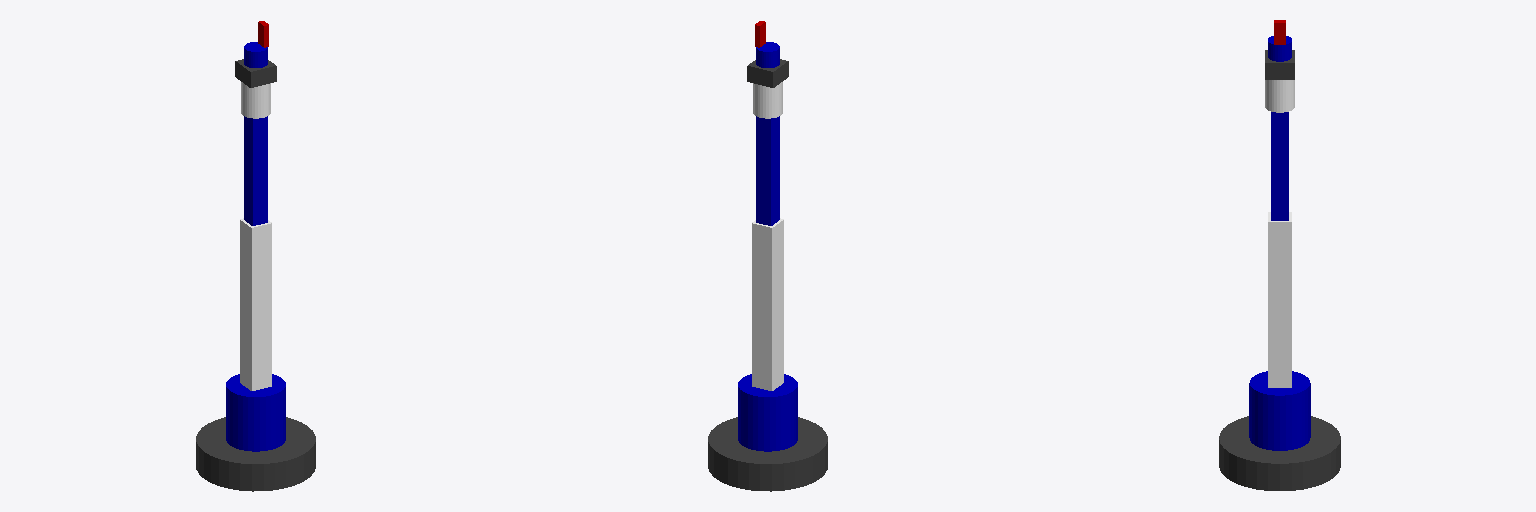
robot.urdf — robot_4axes:
<?xml version="1.0" encoding="utf-8"?>
<robot name="robot_4axes">

  <material name="blue"><color rgba="0.0 0.0 0.8 1.0"/></material>
  <material name="white"><color rgba="1.0 1.0 1.0 1.0"/></material>
  <material name="grey"><color rgba="0.3 0.3 0.3 1.0"/></material>
  <material name="red"><color rgba="0.8 0.0 0.0 1.0"/></material>

  <link name="base_link">
    <visual>
      <geometry><cylinder radius="0.1" length="0.05"/></geometry>
      <material name="grey"/>
    </visual>
  </link>

  <joint name="waist_joint" type="revolute">
    <parent link="base_link"/>
    <child link="link_1"/>
    <origin xyz="0 0 0.025" rpy="0 0 0"/>
    <axis xyz="0 0 1"/>
    <limit lower="-3.1416" upper="3.1416" effort="150.0" velocity="1.0"/>
  </joint>

  <link name="link_1">
    <visual>
      <origin xyz="0 0 0.05"/>
      <geometry><cylinder radius="0.05" length="0.1"/></geometry>
      <material name="blue"/>
    </visual>
  </link>

  <joint name="shoulder_joint" type="revolute">
    <parent link="link_1"/>
    <child link="link_2"/>
    <origin xyz="0 0 0.1" rpy="0 0 0"/>
    <axis xyz="0 1 0"/>
    <limit lower="-1.5708" upper="1.5708" effort="150.0" velocity="1.0"/>
  </joint>

  <link name="link_2">
    <visual>
      <origin xyz="0 0 0.15"/>
      <geometry><box size="0.04 0.04 0.3"/></geometry>
      <material name="white"/>
    </visual>
  </link>

  <joint name="elbow_joint" type="revolute">
    <parent link="link_2"/>
    <child link="link_3"/>
    <origin xyz="0 0 0.3" rpy="0 0 0"/>
    <axis xyz="0 1 0"/>
    <limit lower="-2.0944" upper="2.0944" effort="150.0" velocity="1.0"/>
  </joint>

  <link name="link_3">
    <visual>
      <origin xyz="0 0 0.1"/>
      <geometry><box size="0.03 0.03 0.2"/></geometry>
      <material name="blue"/>
    </visual>
  </link>

  <joint name="wrist_joint" type="revolute">
    <parent link="link_3"/>
    <child link="link_4"/>
    <origin xyz="0 0 0.2" rpy="0 0 0"/>
    <axis xyz="0 1 0"/>
    <limit lower="-1.7453" upper="1.7453" effort="100.0" velocity="1.0"/>
  </joint>

  <link name="link_4">
    <visual>
      <origin xyz="0 0 0.03"/>
      <geometry><cylinder radius="0.025" length="0.06"/></geometry>
      <material name="white"/>
    </visual>
  </link>

  <joint name="joint_5" type="revolute">
    <parent link="link_4"/>
    <child link="link_5"/>
    <origin xyz="0 0 0.06" rpy="0 0 0"/>
    <axis xyz="0 0 1"/>
    <limit lower="-3.1416" upper="3.1416" effort="50.0" velocity="1.5"/>
  </joint>

  <link name="link_5">
    <visual>
      <origin xyz="0 0 0.015"/>
      <geometry><box size="0.05 0.05 0.03"/></geometry>
      <material name="grey"/>
    </visual>
  </link>

  <joint name="joint_6" type="revolute">
    <parent link="link_5"/>
    <child link="link_6"/>
    <origin xyz="0 0 0.03" rpy="0 0 0"/>
    <axis xyz="0 1 0"/>
    <limit lower="-1.5708" upper="1.5708" effort="50.0" velocity="1.5"/>
  </joint>

  <link name="link_6">
    <visual>
      <origin xyz="0 0 0.015"/>
      <geometry><cylinder radius="0.02" length="0.03"/></geometry>
      <material name="blue"/>
    </visual>
  </link>

  <joint name="finger_joint" type="prismatic">
    <parent link="link_6"/>
    <child link="finger_l"/>
    <origin xyz="0 0 0.03" rpy="0 0 0"/>
    <axis xyz="1 0 0"/>
    <limit lower="0.0" upper="0.05" effort="50.0" velocity="0.1"/>
  </joint>

  <link name="finger_l">
    <visual>
      <origin xyz="0.015 0 0.02"/>
      <geometry><box size="0.01 0.02 0.04"/></geometry>
      <material name="red"/>
    </visual>
  </link>

</robot>

--- What the picture shows (computed from the rendered views, not written in the file) ---
Views: 3 orthographic renders of the robot side by side, from view 1: azimuth 30°, elevation 25°; view 2: azimuth 150°, elevation 25°; view 3: azimuth 270°, elevation 25°.
Model robot_4axes with 8 links and 7 joints (6 revolute, 1 prismatic), rooted at base_link, posed all joints at 0.
Links seen in each view (by area): view 1: base_link, link_2, link_1, link_3, link_4, link_5, link_6; view 2: base_link, link_2, link_1, link_3, link_4, link_5, link_6; view 3: base_link, link_1, link_2, link_3, link_4, link_5.
Link boxes in pixels (x1,y1,x2,y2): base_link: (196,417,315,491); link_2: (240,218,271,390); link_1: (226,374,285,451); link_3: (244,116,267,225); link_4: (241,82,270,118); link_5: (235,59,276,87); link_6: (244,42,267,67); base_link: (708,417,827,491); link_2: (752,218,783,390); link_1: (738,374,797,451); link_3: (756,116,779,225); link_4: (753,82,782,118); link_5: (747,59,788,87); link_6: (756,42,779,67); base_link: (1219,416,1340,490); link_1: (1249,371,1310,450); link_2: (1268,212,1291,387); link_3: (1271,112,1288,220); link_4: (1265,80,1294,112); link_5: (1265,50,1294,79).
Bounding box of the posed robot: 0.2 × 0.2 × 0.81 m (x, y, z).
Geometry: primitives only (box / cylinder / sphere), no mesh files.
